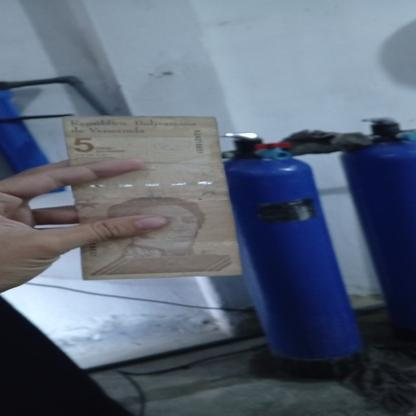vef_front: (61, 115, 243, 281)
